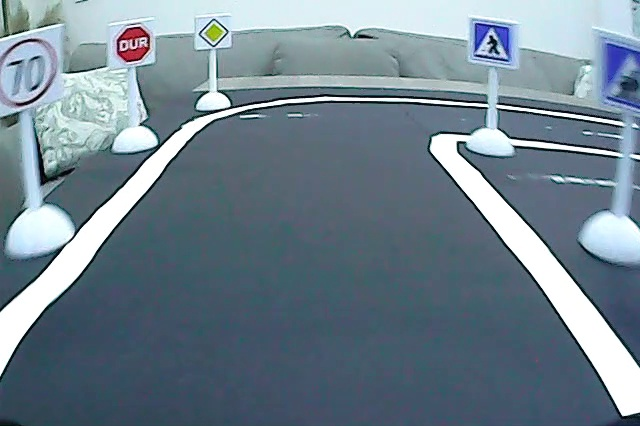pedestrian crossing: (470, 17, 514, 68)
speed limit 70: (1, 36, 62, 114)
stop sign: (112, 22, 154, 64)
